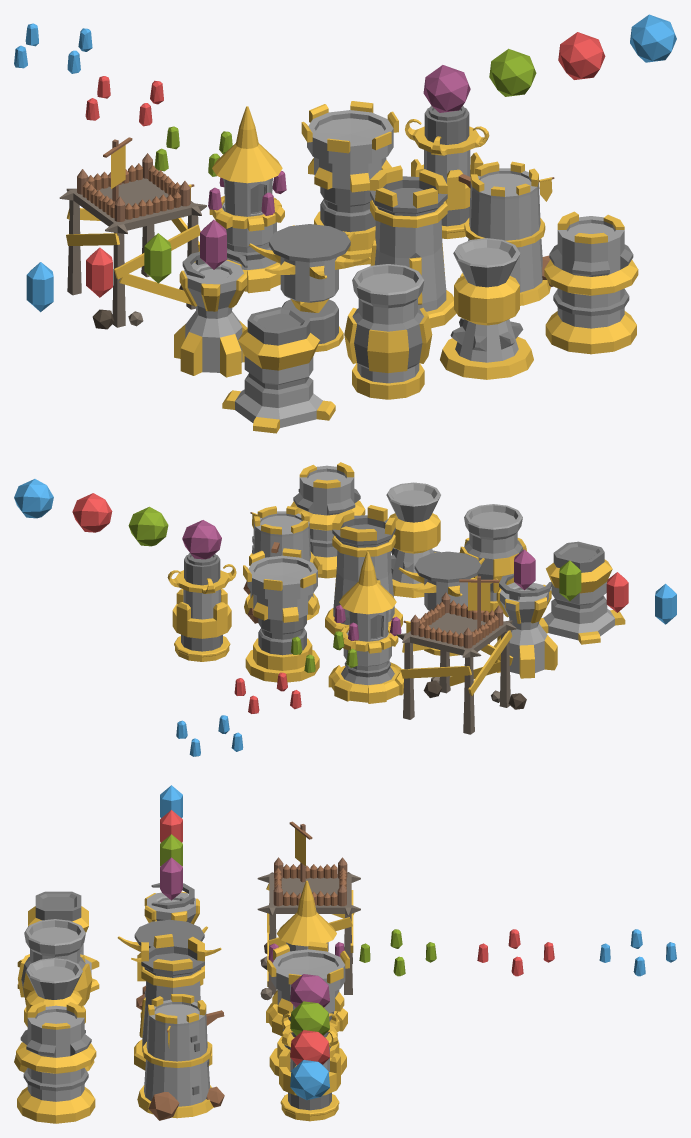
The model's file is towers_premium.fbx.
3 renders of one model, top to bottom at view 1: azimuth 30°, elevation 25°; view 2: azimuth 150°, elevation 25°; view 3: azimuth 270°, elevation 25°, orthographic. The views are drawn at different scales.
Visible parts, largest first — view 1: p_4, p_5, p_2, p_12, p_10, p_3, p_11, p_9, p_7, Boole_1, body_top, body (+4 smaller); view 2: p_4, p_2, p_3, p_5, p_9, p_7, p_11, p_12, body, p_10, body_top, Boole_1 (+5 smaller); view 3: p_12, p_4, Boole_1, p_2, p_7, p_5, p_3, p_10, body, p_11, p_9, body_top (+4 smaller).
Boxes of the visible parts, x1,y1,x2,y2 form: p_4: (405, 14, 676, 238); p_5: (26, 219, 247, 377); p_2: (14, 23, 286, 293); p_12: (544, 211, 638, 354); p_10: (344, 264, 432, 399); p_3: (301, 101, 398, 265); p_11: (440, 238, 533, 379); p_9: (222, 307, 335, 433); p_7: (370, 165, 456, 328); Boole_1: (460, 161, 550, 305); body_top: (249, 224, 370, 302); body: (59, 178, 206, 327); p_4: (14, 479, 236, 661); p_2: (176, 551, 403, 756); p_3: (243, 548, 322, 682); p_5: (494, 549, 676, 678); p_9: (539, 541, 625, 644); p_7: (325, 505, 402, 635); p_11: (386, 482, 440, 597); p_12: (290, 462, 365, 578); body: (396, 608, 516, 734); p_10: (459, 504, 526, 613); body_top: (398, 551, 497, 611); Boole_1: (244, 506, 319, 620); p_12: (16, 1002, 96, 1123); p_4: (279, 974, 340, 1121); Boole_1: (137, 994, 213, 1118); p_2: (266, 880, 676, 1035); p_7: (134, 934, 212, 1070); p_5: (137, 785, 203, 985); p_3: (267, 941, 349, 1076); p_10: (18, 919, 92, 1026); body: (257, 872, 360, 994); p_11: (14, 958, 94, 1072); p_9: (17, 891, 99, 992); body_top: (117, 919, 221, 962).
Size of the model in its own units: 2978 by 674 by 2763.
1 material, 1 textured.
